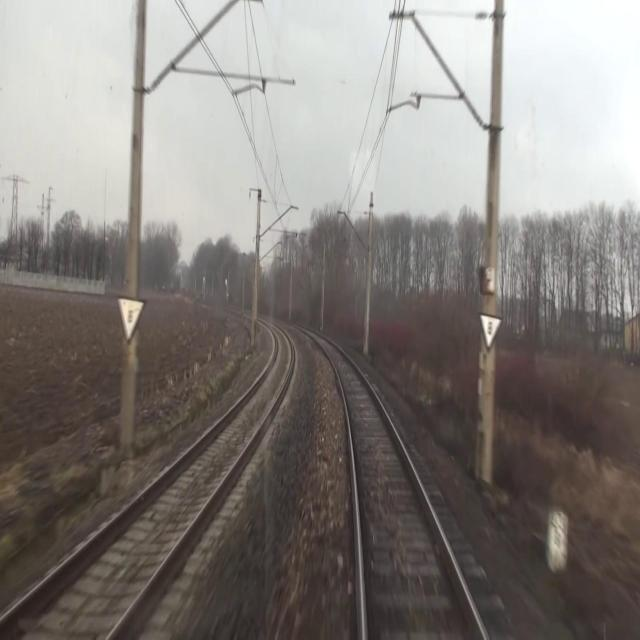rail-track: (0, 325, 291, 639), (312, 334, 484, 639)
